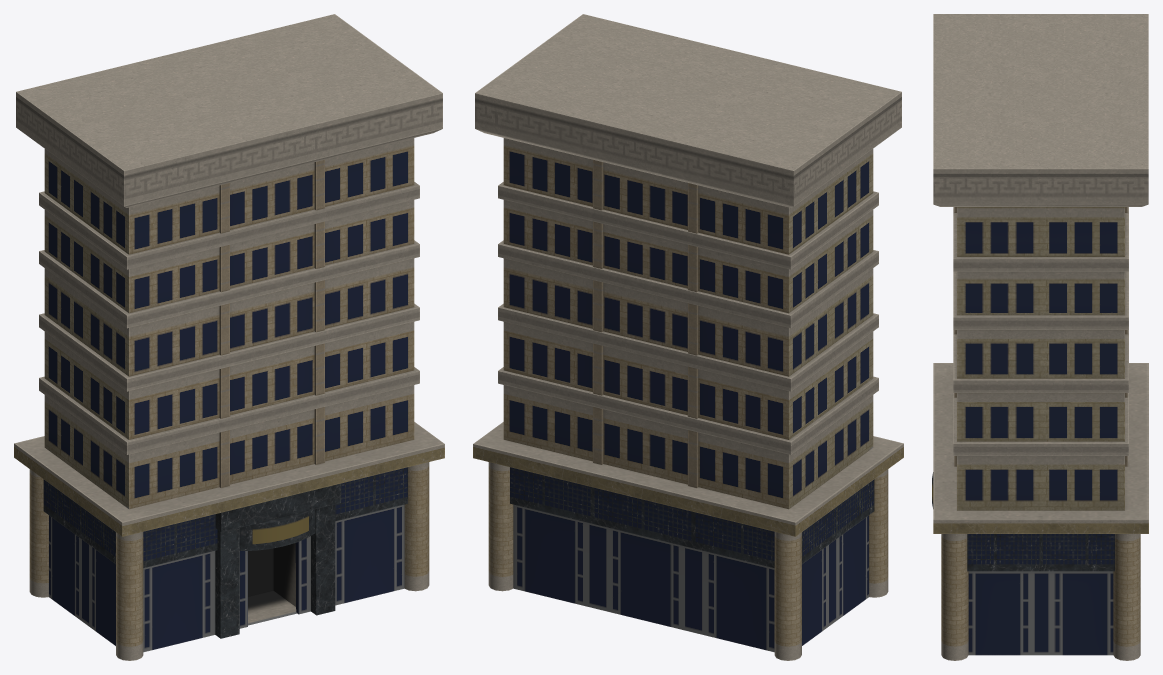
Rendered from sb_obj_ModernCity007_buil_c2.fbx.
3 views of the same model, side by side, from view 1: azimuth 30°, elevation 25°; view 2: azimuth 150°, elevation 25°; view 3: azimuth 270°, elevation 25° (orthographic).
Parts seen in each view (by area): view 1: sb_obj_ModernCity007_buil_c2; view 2: sb_obj_ModernCity007_buil_c2; view 3: sb_obj_ModernCity007_buil_c2.
Boxes of the visible parts, left/top/right/bottom form: sb_obj_ModernCity007_buil_c2: left=14, top=14, right=444, bottom=660; sb_obj_ModernCity007_buil_c2: left=473, top=14, right=903, bottom=660; sb_obj_ModernCity007_buil_c2: left=932, top=14, right=1148, bottom=660.
Bounding box in the file's own units: 6.8 × 10 × 3.97.
